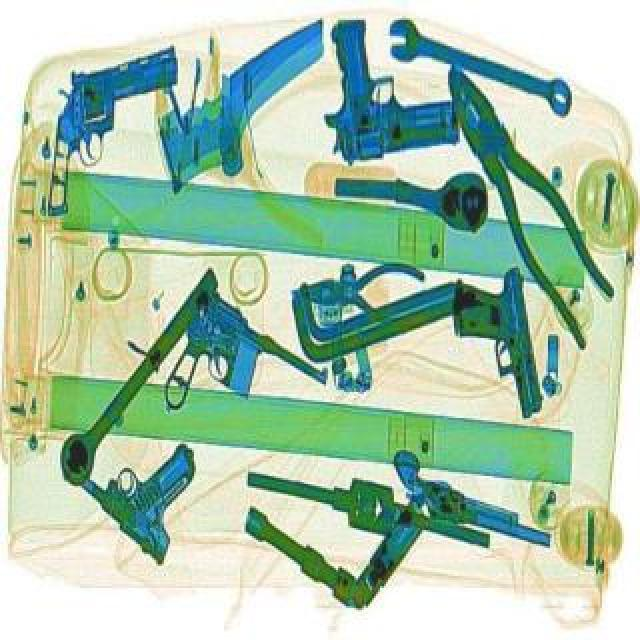gun: (134, 290, 338, 468), (14, 46, 206, 214), (58, 402, 238, 564), (312, 6, 460, 166), (378, 444, 564, 544), (446, 264, 546, 426)
scissors: (376, 12, 580, 112)
wrench: (418, 50, 634, 348), (290, 260, 424, 322)
